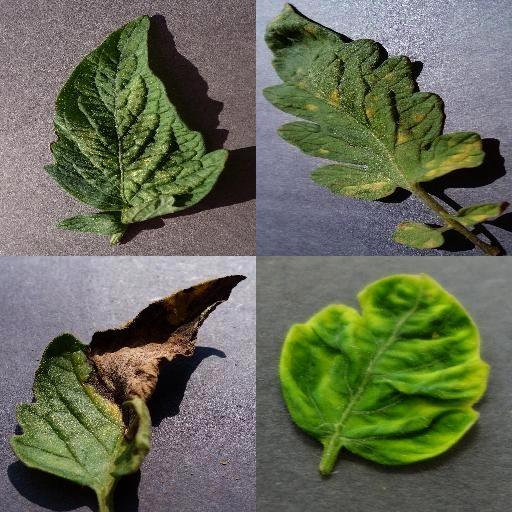Late Blight: (10, 273, 250, 487)
Leaf Mold: (263, 1, 486, 201)
Spider Mites: (43, 15, 229, 223)
Yellow Leaf Curl Virus: (279, 273, 492, 463)
